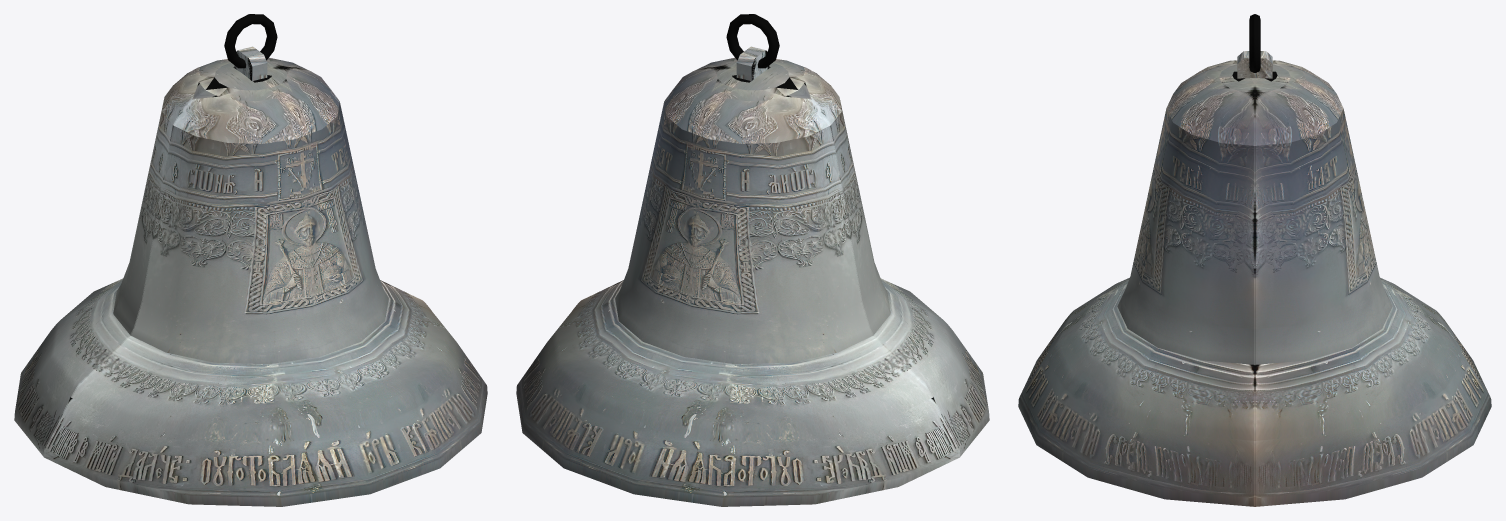
The model's file is wrwцукr.fbx.
3 renders of one model, left to right at view 1: azimuth 30°, elevation 25°; view 2: azimuth 150°, elevation 25°; view 3: azimuth 270°, elevation 25°, orthographic.
Visible parts, largest first — view 1: Colocol.001; view 2: Colocol.001; view 3: Colocol.001.
Boxes of the visible parts, x1,y1,x2,y2 form: Colocol.001: [14, 14, 487, 506]; Colocol.001: [516, 14, 989, 506]; Colocol.001: [1018, 14, 1491, 506].
Bounding box in the file's own units: 0.0159 × 0.0164 × 0.0158.
Materials: 3 (2 with a texture image).
